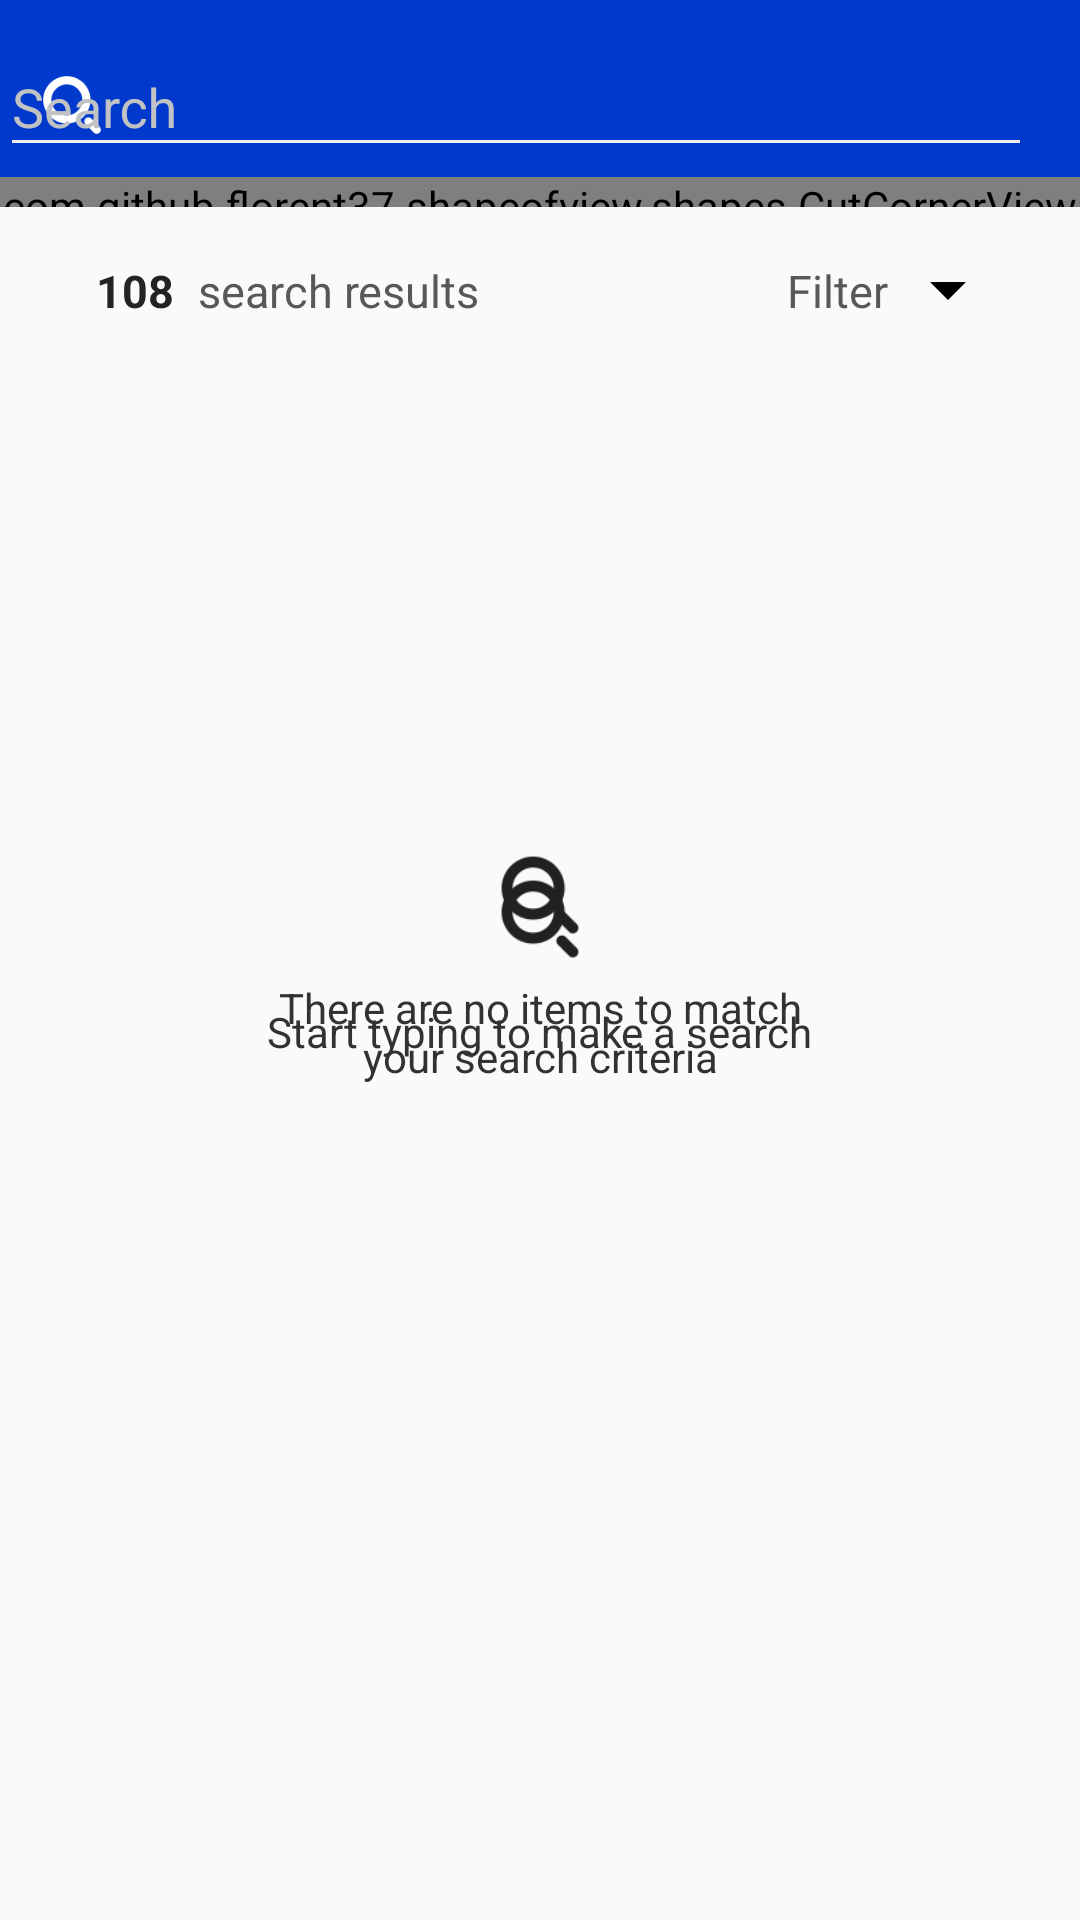

Where icons sit on this 1080×1920 app screen, as bbox=(x1, y1, x2, y2):
down arrow: bbox=(930, 282, 966, 300)
